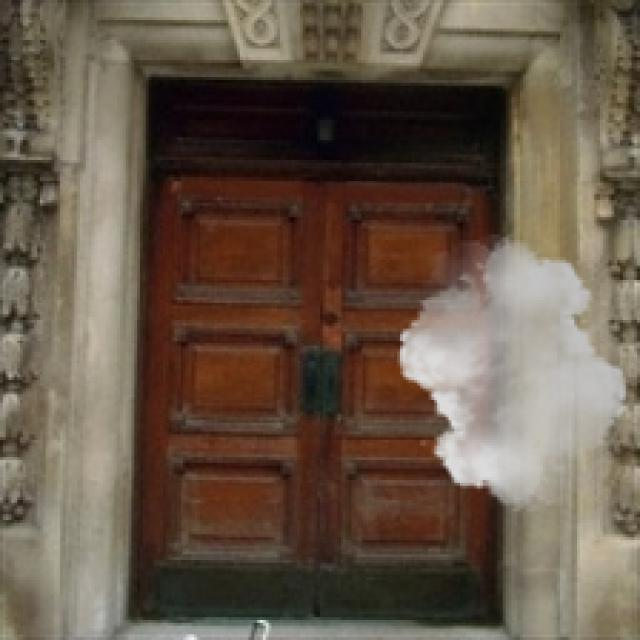smoke: (389, 234, 637, 512)
